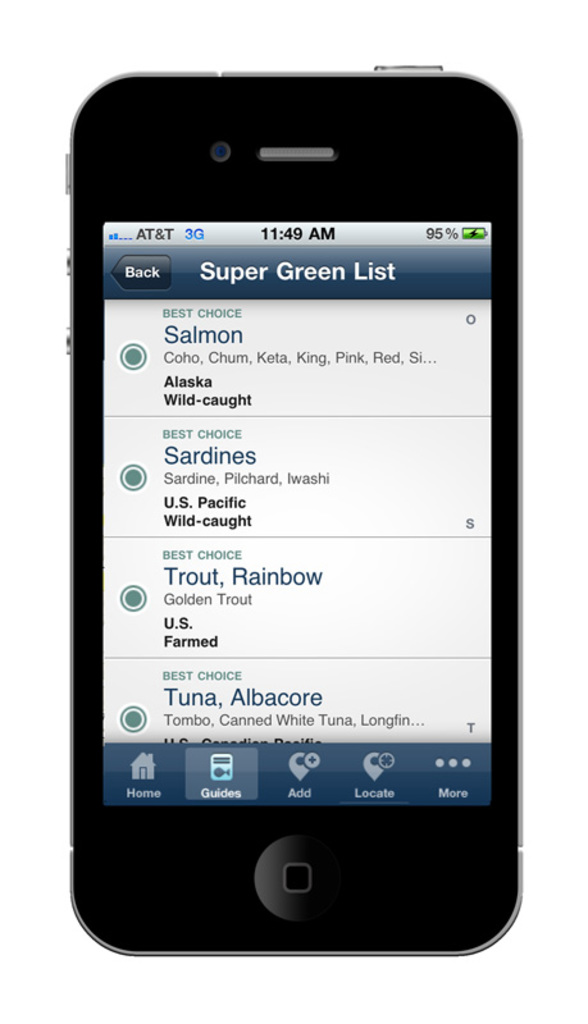Mobile-phone: (62, 73, 524, 953)
